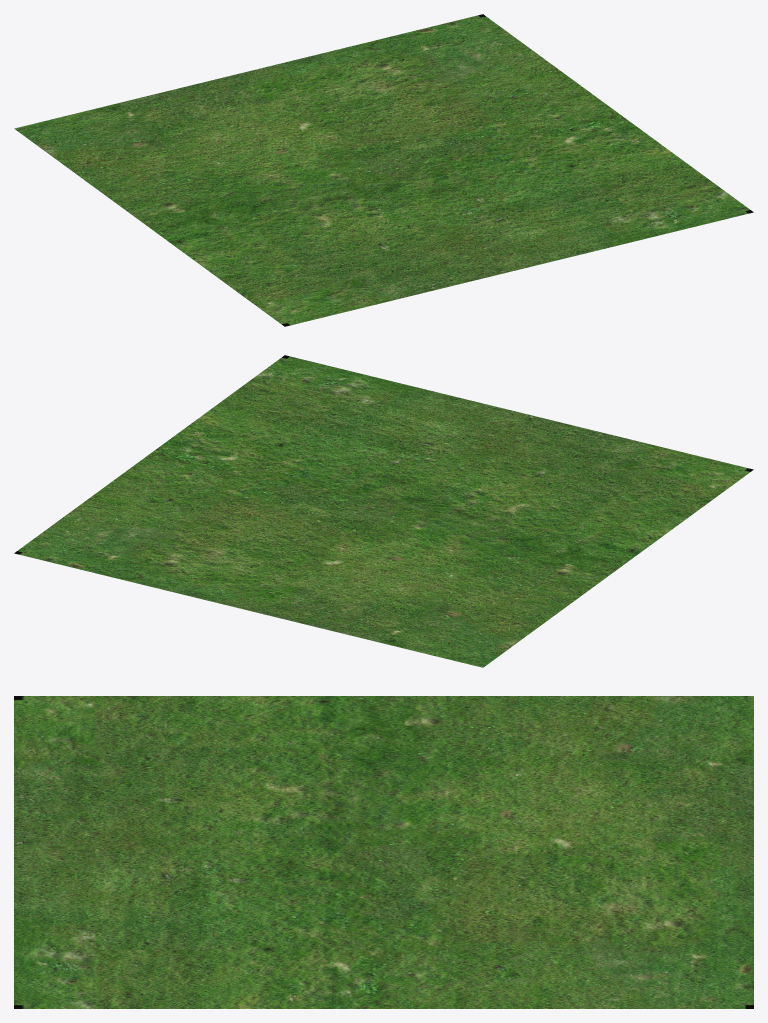
Rendered from pasto.obj.
The picture shows the model from 3 angles, top to bottom: view 1: azimuth 30°, elevation 25°; view 2: azimuth 150°, elevation 25°; view 3: azimuth 270°, elevation 25°; orthographic projection. The views are drawn at different scales.
Parts seen in each view (by area): view 1: pPlane1; view 2: pPlane1; view 3: pPlane1.
Boxes of the visible parts, box(x1,y1,x2,y2) form: pPlane1: box(14, 14, 753, 326); pPlane1: box(14, 355, 753, 667); pPlane1: box(14, 696, 753, 1008).
Size of the model in its own units: 5000 by 0 by 5000.
1 material, 1 textured.
